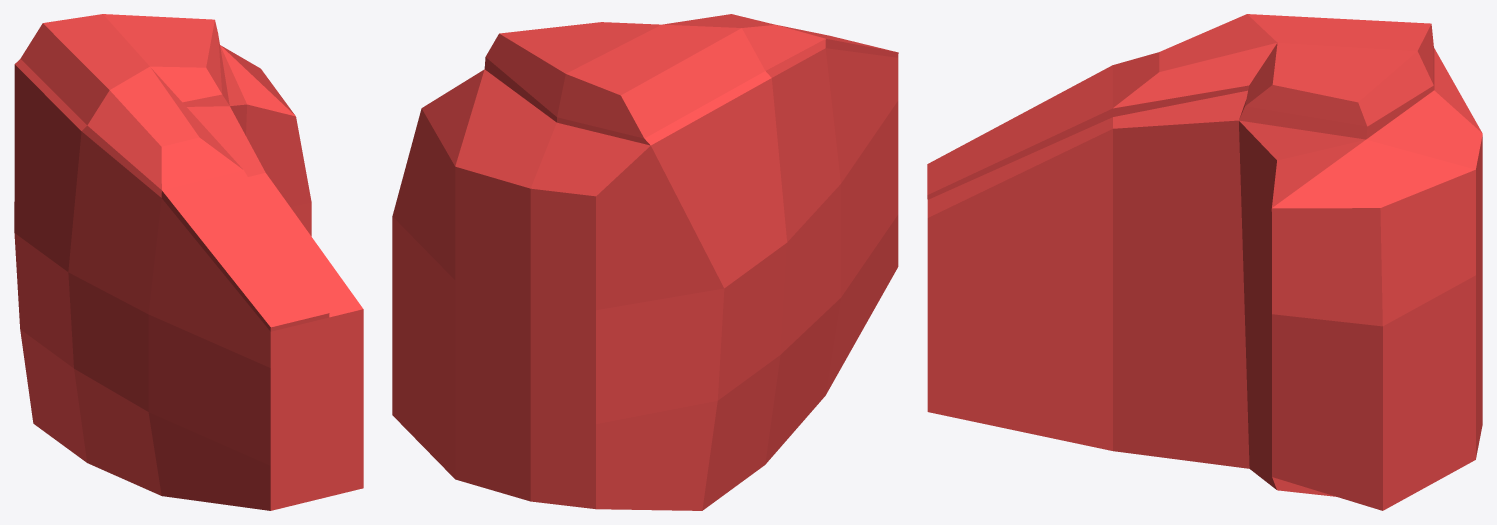
File: Glove.fbx
3 renders of one model, left to right at view 1: azimuth 30°, elevation 25°; view 2: azimuth 150°, elevation 25°; view 3: azimuth 270°, elevation 25°, orthographic. The views are drawn at different scales.
Visible parts, largest first — view 1: Glove; view 2: Glove; view 3: Glove.
Part boxes in pixels (left/top/right/bottom): Glove: left=14, top=14, right=363, bottom=510; Glove: left=392, top=14, right=898, bottom=510; Glove: left=927, top=14, right=1482, bottom=510.
Bounding box in the file's own units: 198 × 252 × 318.
